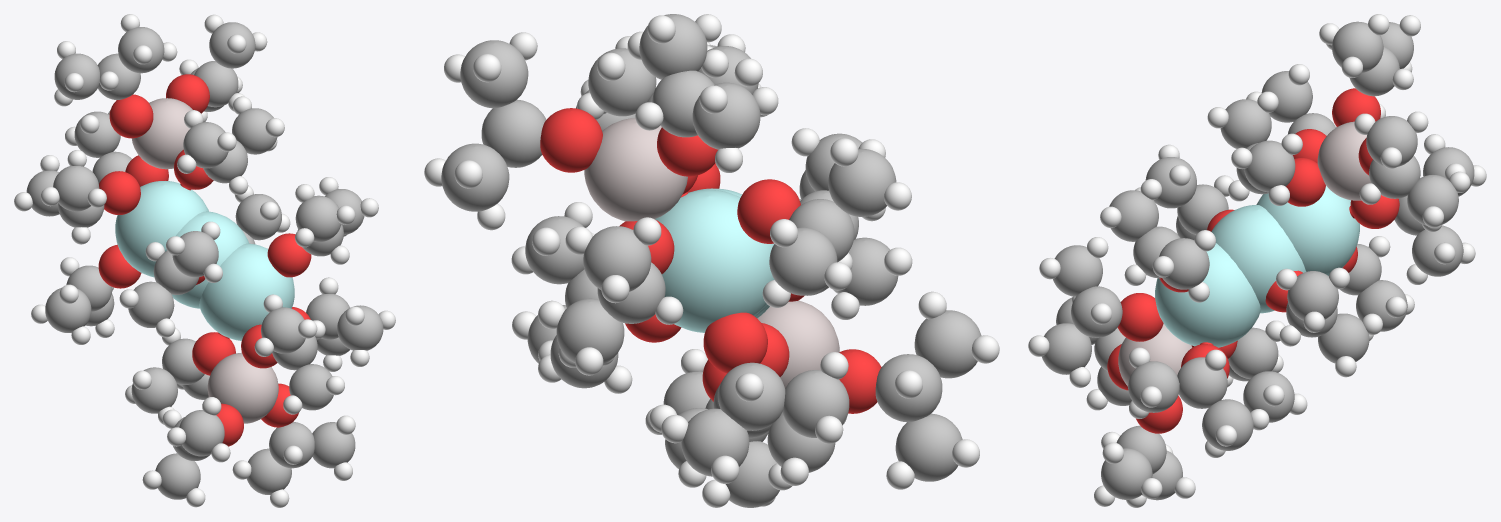
The picture shows the model from 3 angles, left to right: view 1: azimuth 30°, elevation 25°; view 2: azimuth 150°, elevation 25°; view 3: azimuth 270°, elevation 25°; orthographic projection. The views are drawn at different scales.
Parts seen in each view (by area): view 1: Carbon_ball (×35), Yttrium_ball (×4), Oxygen_ball (×11), Aluminium_ball (×2); view 2: Carbon_ball (×29), Hydrogen_ball (×25), Yttrium_ball (×2), Oxygen_ball (×8), Aluminium_ball (×2); view 3: Carbon_ball (×36), Yttrium_ball (×3), Oxygen_ball (×7), Aluminium_ball (×2).
Boxes of the visible parts, left/top/right/bottom form: Carbon_ball (×35): left=26, top=22, right=383, bottom=499; Yttrium_ball (×4): left=115, top=181, right=294, bottom=340; Oxygen_ball (×11): left=98, top=74, right=311, bottom=446; Aluminium_ball (×2): left=131, top=98, right=278, bottom=423; Carbon_ball (×29): left=441, top=14, right=981, bottom=507; Hydrogen_ball (×25): left=454, top=15, right=999, bottom=489; Yttrium_ball (×2): left=654, top=189, right=774, bottom=332; Oxygen_ball (×8): left=540, top=108, right=881, bottom=413; Aluminium_ball (×2): left=584, top=118, right=839, bottom=388; Carbon_ball (×36): left=1041, top=21, right=1474, bottom=500; Yttrium_ball (×3): left=1155, top=186, right=1359, bottom=347; Oxygen_ball (×7): left=1117, top=88, right=1399, bottom=433; Aluminium_ball (×2): left=1118, top=121, right=1370, bottom=386.
Size of the model in its own units: 11.4 by 15.45 by 13.65.
